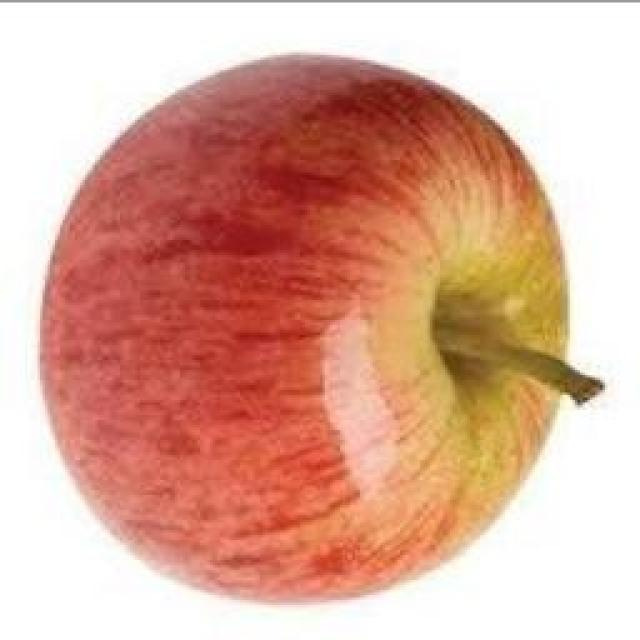Apple: (42, 56, 600, 598)
